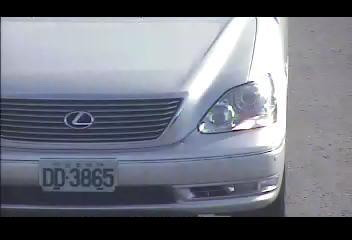plate: (40, 158, 117, 193)
